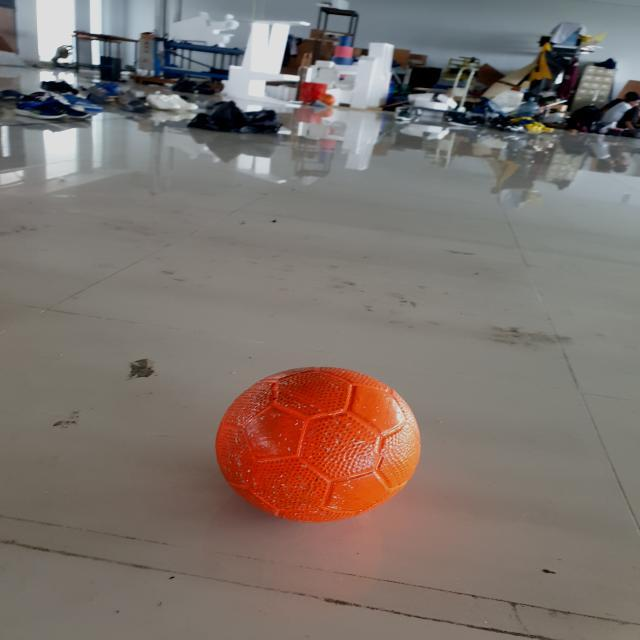bola: (201, 355, 439, 553)
